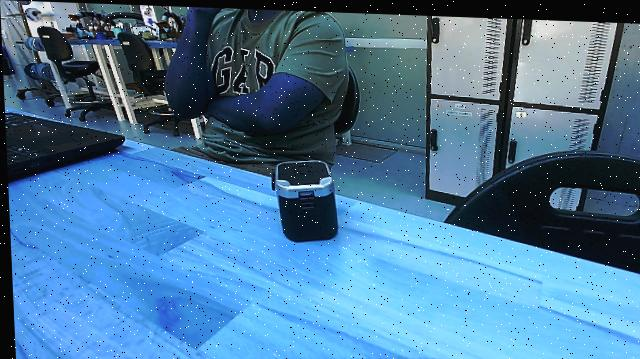adapter: (262, 158, 347, 245)
